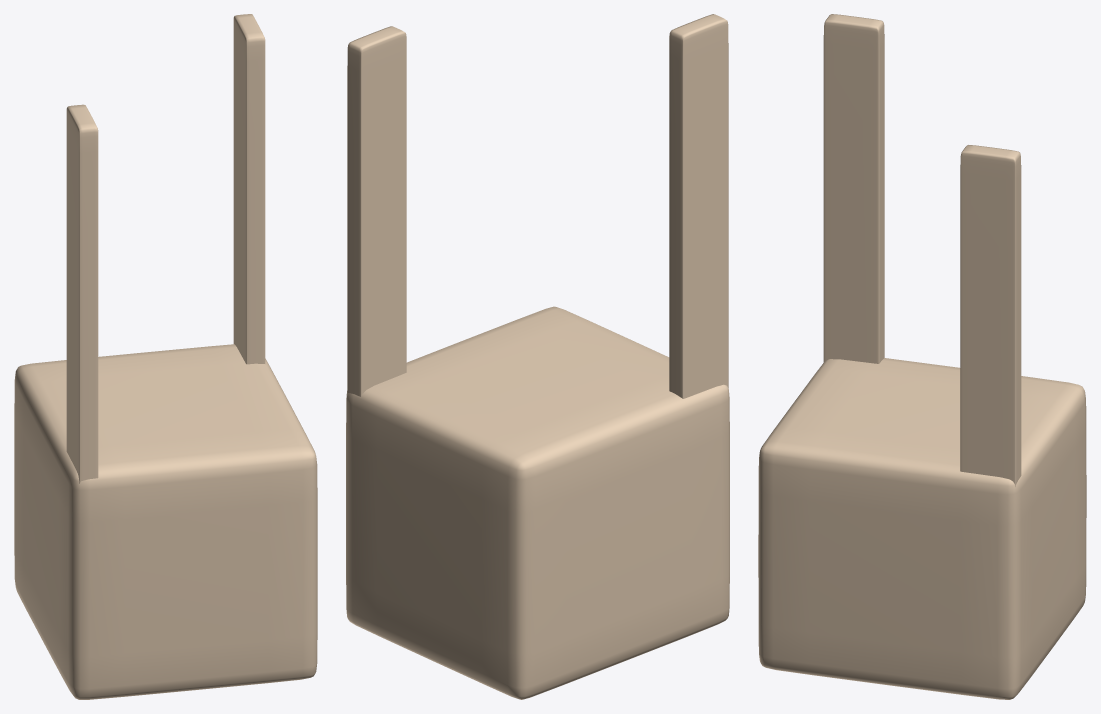
Rendered from PROP_Bench_v2.glb.
3 renders of one model, left to right at view 1: azimuth 30°, elevation 25°; view 2: azimuth 150°, elevation 25°; view 3: azimuth 270°, elevation 25°, orthographic. The views are drawn at different scales.
Parts seen in each view (by area): view 1: PROP_Bench_v2; view 2: PROP_Bench_v2; view 3: PROP_Bench_v2.
Boxes of the visible parts, bbox=[...] form: PROP_Bench_v2: bbox=[14, 14, 317, 699]; PROP_Bench_v2: bbox=[346, 14, 729, 699]; PROP_Bench_v2: bbox=[758, 14, 1086, 699].
Bounding box in the file's own units: 1.18 × 2.36 × 1.25.
